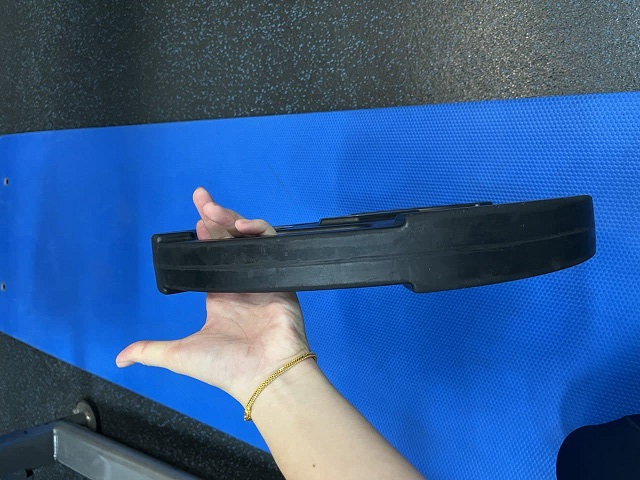weights: (150, 192, 595, 295)
